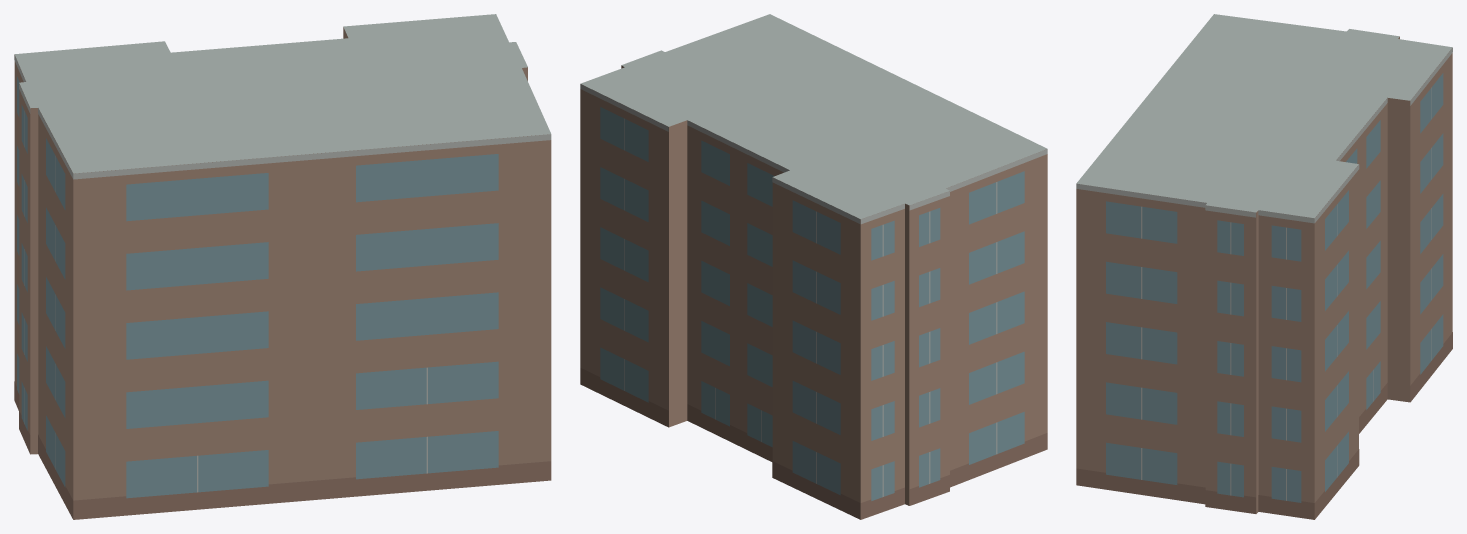
The model's file is survey-upis-32712219.glb.
3 views of the same model, side by side, from view 1: azimuth 30°, elevation 25°; view 2: azimuth 150°, elevation 25°; view 3: azimuth 270°, elevation 25° (orthographic). The views are drawn at different scales.
Parts seen in each view (by area): view 1: survey-upis-32712219.tmp; view 2: survey-upis-32712219.tmp; view 3: survey-upis-32712219.tmp.
Boxes of the visible parts, x1=… form: survey-upis-32712219.tmp: x1=14, y1=14, x2=551, y2=519; survey-upis-32712219.tmp: x1=580, y1=14, x2=1047, y2=519; survey-upis-32712219.tmp: x1=1076, y1=14, x2=1452, y2=519.
Size of the model in its own units: 20.63 by 14.2 by 16.07.
